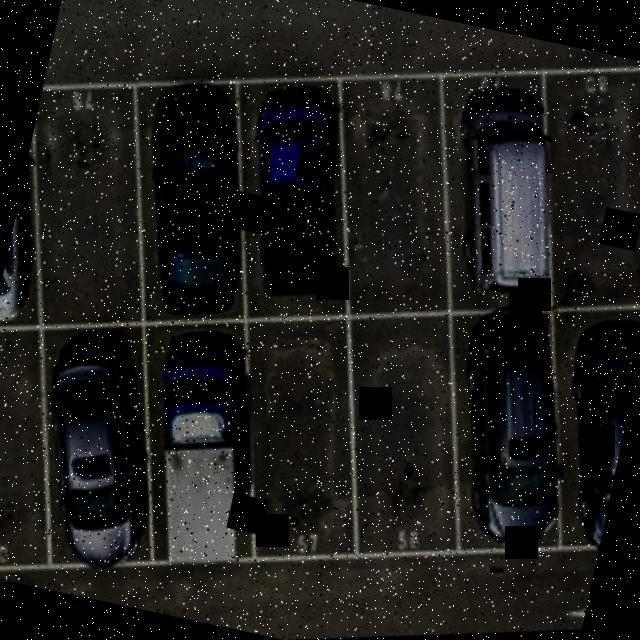car: (111, 309, 306, 588), (416, 309, 614, 582), (0, 328, 198, 594), (410, 63, 595, 320), (114, 80, 284, 332), (212, 80, 382, 316), (523, 294, 640, 561), (0, 115, 73, 332)
free: (0, 64, 192, 344), (297, 60, 494, 330), (308, 300, 502, 570), (208, 306, 398, 571), (502, 47, 640, 323), (0, 321, 98, 584)
